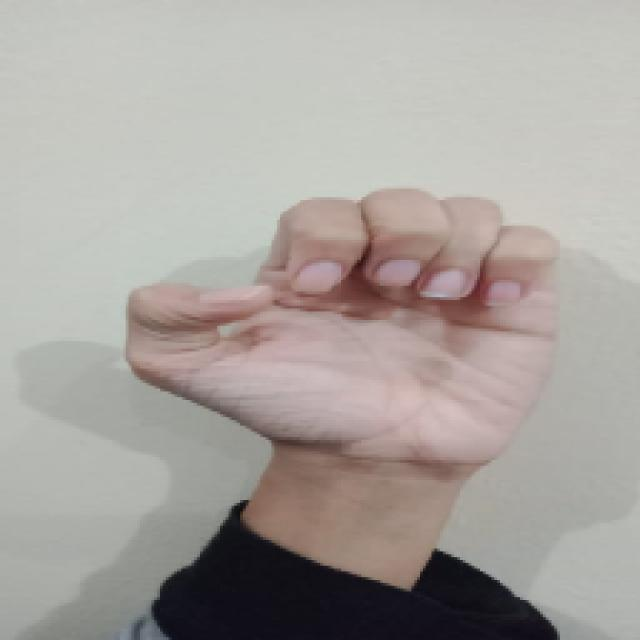Nail: (292, 260, 341, 293), (420, 269, 468, 298), (375, 260, 421, 286), (199, 286, 266, 301), (487, 281, 521, 307)
